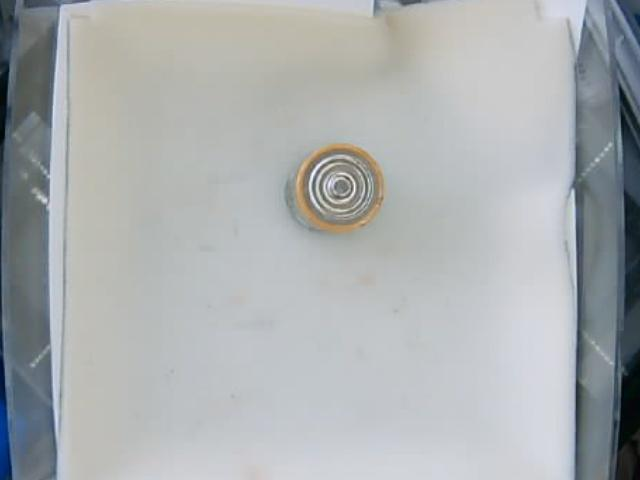Battery: (286, 144, 388, 232)
